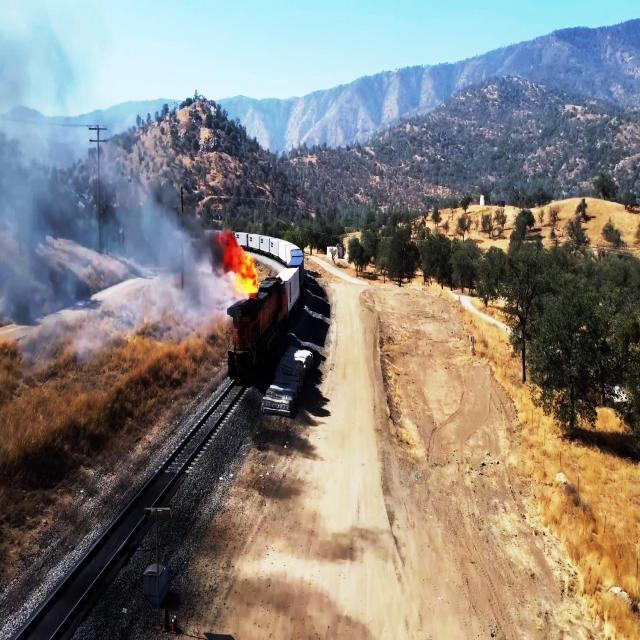Fire: (221, 227, 258, 300)
